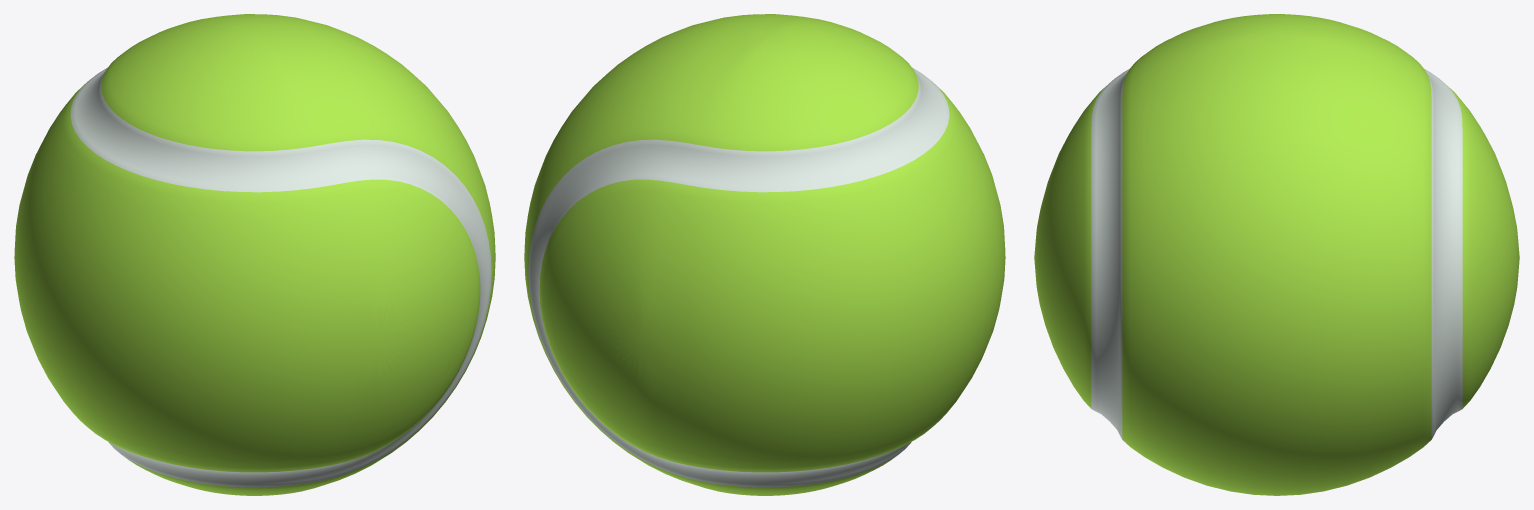
The model's file is GreenTennisBall.glb.
3 views of the same model, side by side, from view 1: azimuth 30°, elevation 25°; view 2: azimuth 150°, elevation 25°; view 3: azimuth 270°, elevation 25° (orthographic).
Parts seen in each view (by area): view 1: Sphere; view 2: Sphere; view 3: Sphere.
Part boxes in pixels (box(x1,y1,x2,y2)): Sphere: box(14, 14, 495, 495); Sphere: box(524, 14, 1005, 495); Sphere: box(1034, 14, 1519, 495).
Size of the model in its own units: 1.97 by 1.99 by 1.99.
